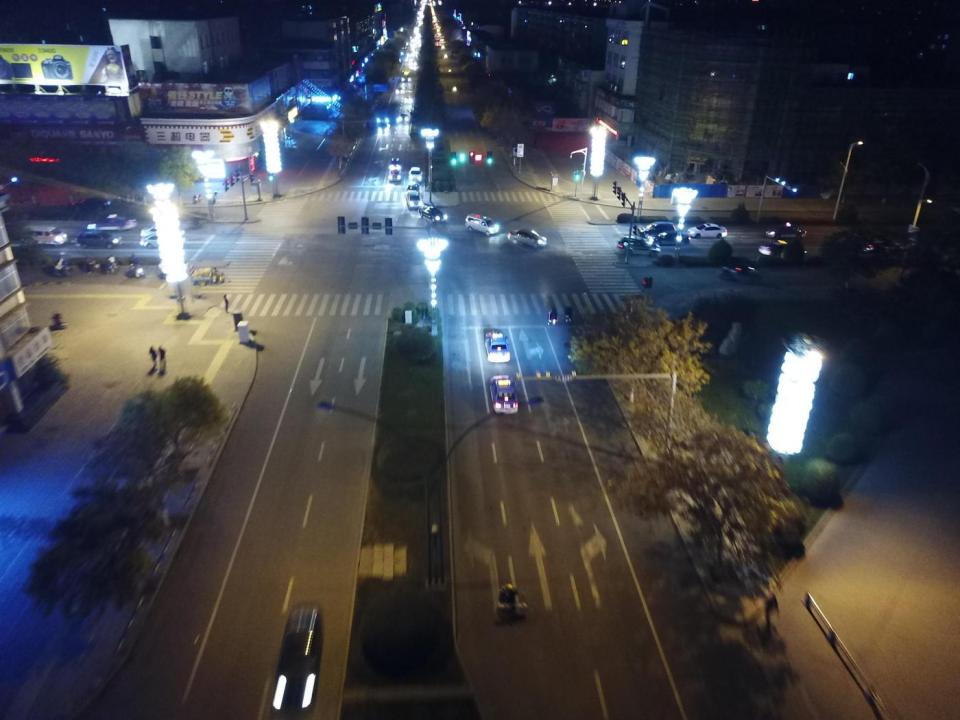car: (271, 608, 321, 712), (491, 374, 518, 415), (758, 240, 807, 258), (617, 236, 661, 256), (861, 236, 904, 256), (77, 231, 123, 249), (86, 214, 136, 230), (508, 228, 546, 249), (485, 332, 510, 363), (766, 221, 806, 238), (141, 226, 185, 240), (686, 223, 727, 238), (649, 230, 690, 245), (638, 222, 675, 237), (140, 235, 186, 247), (70, 197, 110, 210), (419, 206, 447, 222), (388, 169, 401, 181), (376, 113, 390, 124), (407, 181, 419, 193), (377, 123, 390, 134), (390, 158, 401, 169), (396, 113, 408, 122), (401, 74, 412, 82), (396, 86, 404, 94), (405, 95, 412, 103), (403, 68, 410, 75), (406, 51, 412, 57), (410, 60, 416, 65), (410, 65, 416, 70), (406, 57, 412, 62), (396, 57, 401, 62), (414, 51, 418, 57), (398, 52, 404, 56), (412, 46, 417, 50), (436, 43, 441, 46), (434, 34, 439, 37), (402, 46, 406, 49), (403, 42, 409, 44), (440, 35, 444, 38), (437, 32, 441, 35), (432, 20, 436, 23), (441, 39, 444, 43), (433, 23, 436, 26), (435, 22, 438, 25), (435, 38, 439, 40), (437, 28, 439, 32), (436, 41, 440, 43), (437, 41, 440, 43), (436, 26, 439, 28), (433, 17, 436, 19), (433, 27, 435, 29)
van: (21, 226, 67, 246), (464, 212, 499, 234), (406, 190, 422, 210), (409, 167, 422, 181)
